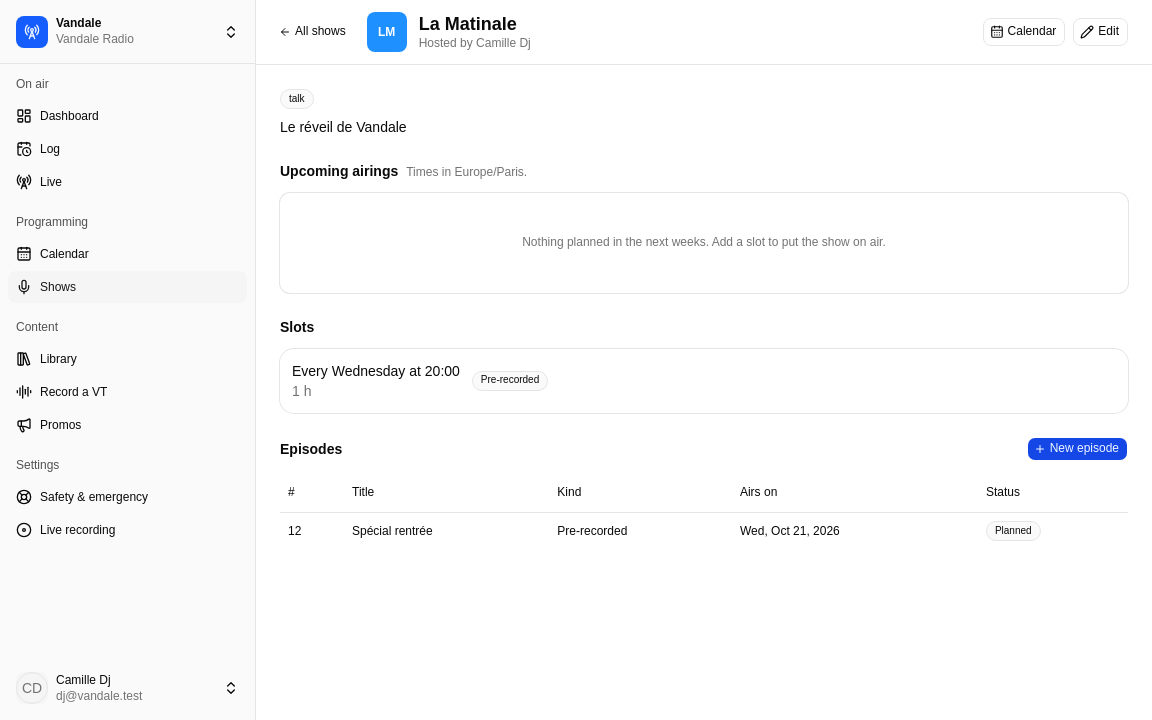
Scenario: show page › attaches a library file to an episode, and shows it attached
What coordinates should you click on to do the following:
click the button named "Episode #12"
I would click on:
 (295, 531)
Its box is x1=288 y1=523 x2=301 y2=539.
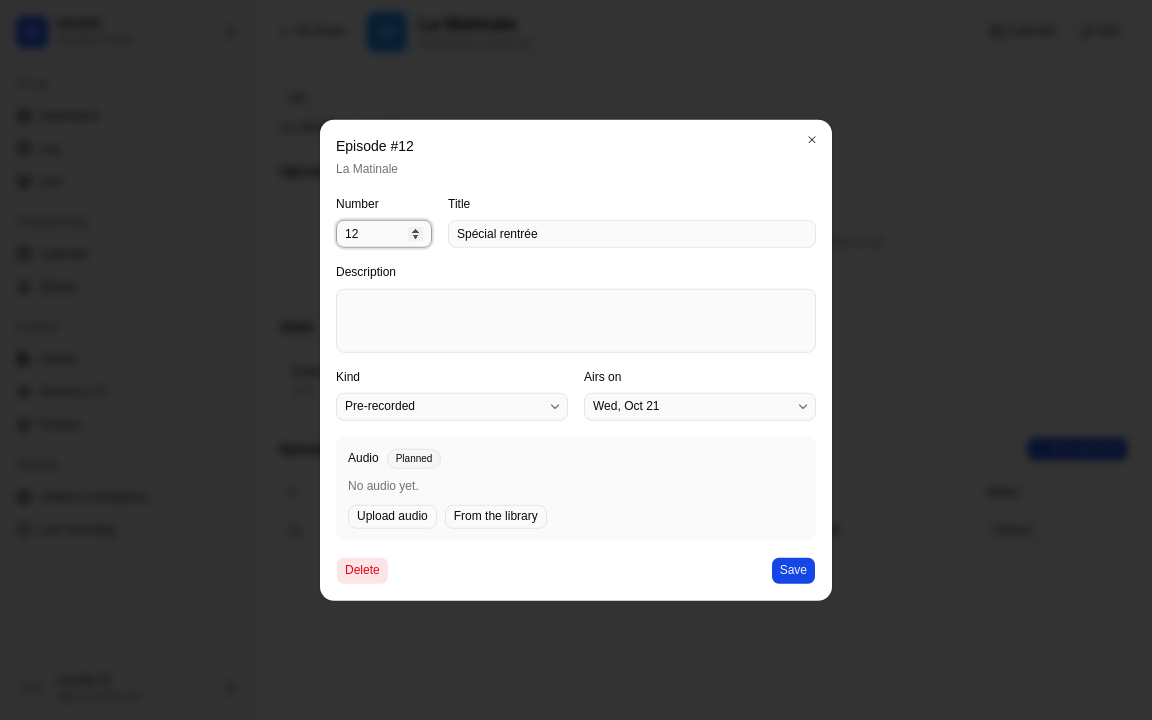
Result: the text "No audio yet." is shown at x1=348 y1=479 x2=419 y2=493
What coordinates should you click on to do the following:
click the button "From the library"
I would click on:
 (496, 516)
Its box is x1=445 y1=504 x2=547 y2=528.
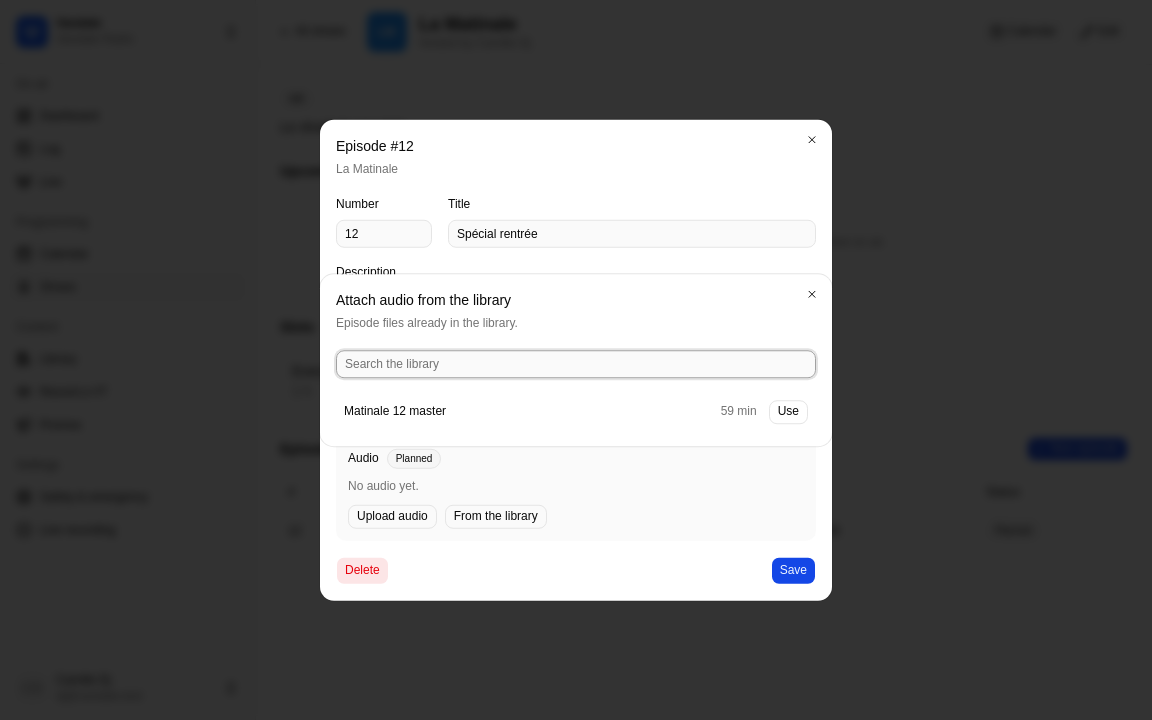
What coordinates should you click on to do the following:
click the button with aria-label "Use: Matinale 12 master"
I would click on:
 (788, 412)
Its box is x1=769 y1=400 x2=808 y2=424.
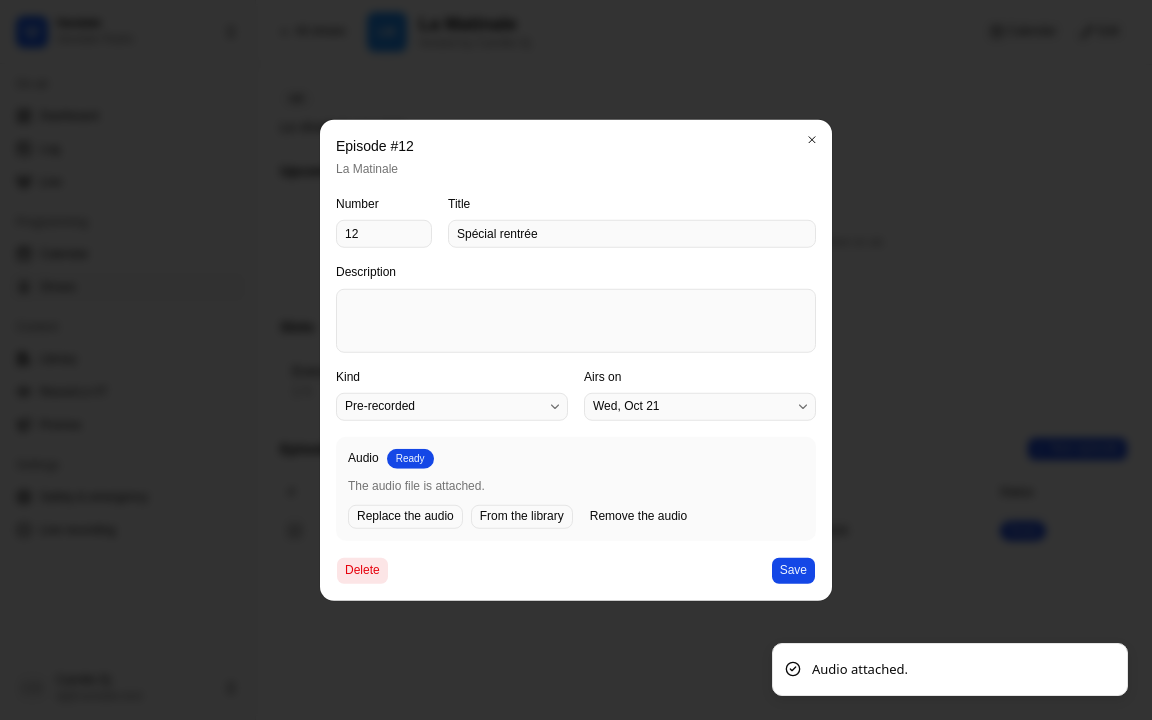
Result: the text "Audio attached." is shown at x1=812 y1=660 x2=908 y2=679
Result: the text "The audio file is attached." is shown at x1=348 y1=479 x2=485 y2=493
Result: the button "Remove the audio" is shown at x1=581 y1=504 x2=696 y2=528
